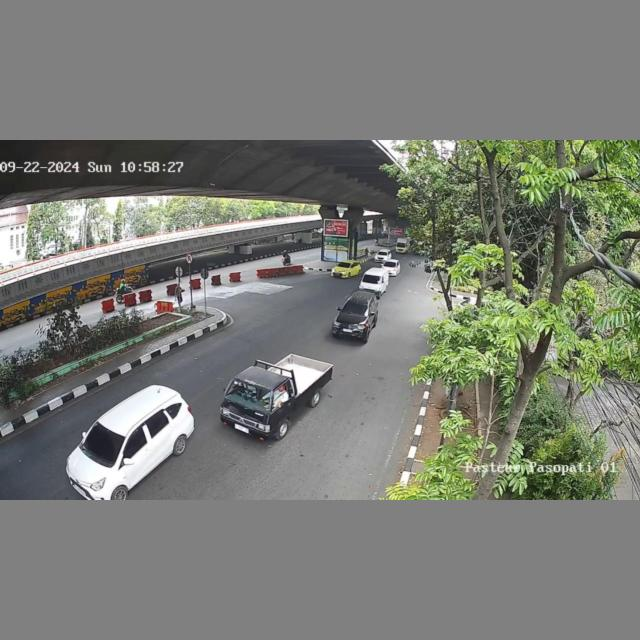windshield: (225, 379, 287, 412), (82, 423, 130, 462), (343, 302, 370, 317), (361, 274, 382, 284)
